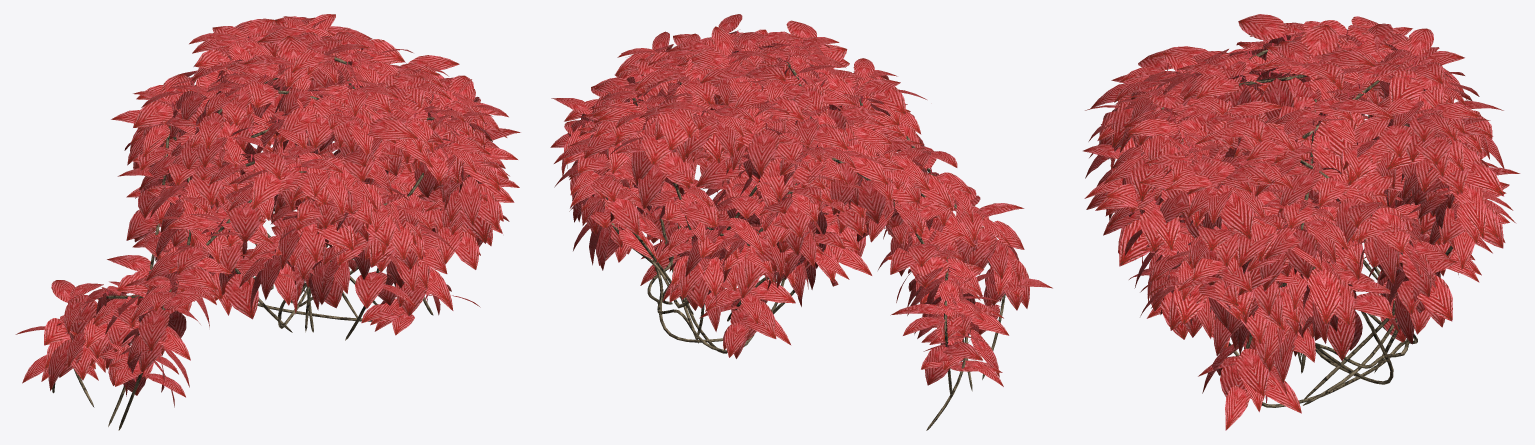
The picture shows the model from 3 angles, left to right: view 1: azimuth 30°, elevation 25°; view 2: azimuth 150°, elevation 25°; view 3: azimuth 270°, elevation 25°; orthographic projection. The views are drawn at different scales.
Visible parts, largest first — view 1: Leaves, Branches; view 2: Leaves, Branches; view 3: Leaves, Branches.
Part boxes in pixels (bbox=[...]): Leaves: bbox=[15, 14, 520, 407]; Branches: bbox=[52, 57, 470, 430]; Leaves: bbox=[550, 14, 1052, 386]; Branches: bbox=[592, 60, 1005, 430]; Leaves: bbox=[1083, 14, 1520, 430]; Branches: bbox=[1119, 45, 1453, 407].
Size of the model in its own units: 86.54 by 57.87 by 63.11.
